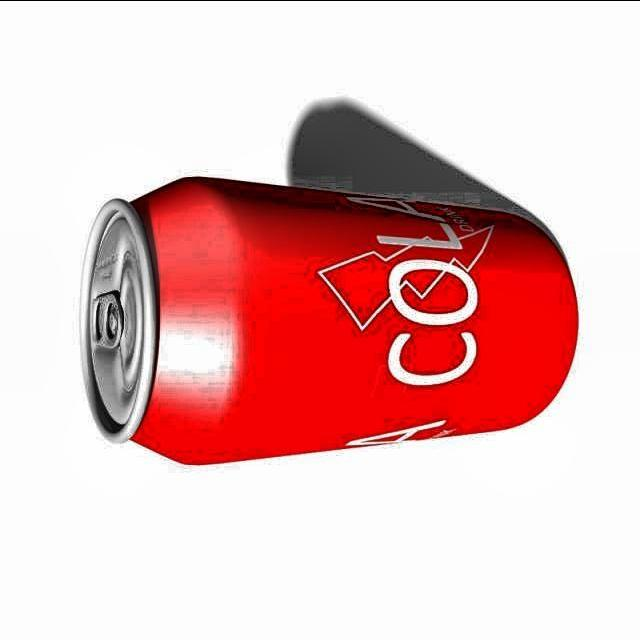Aluminum Can: (67, 169, 590, 472)
